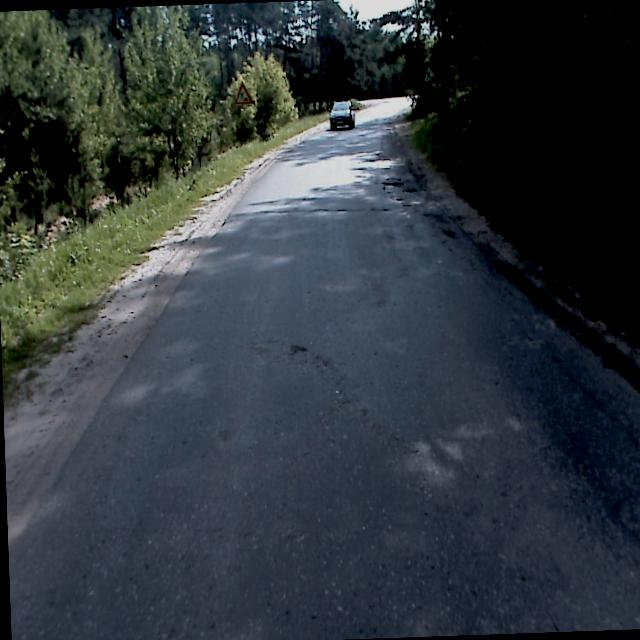road: (8, 96, 640, 640)
